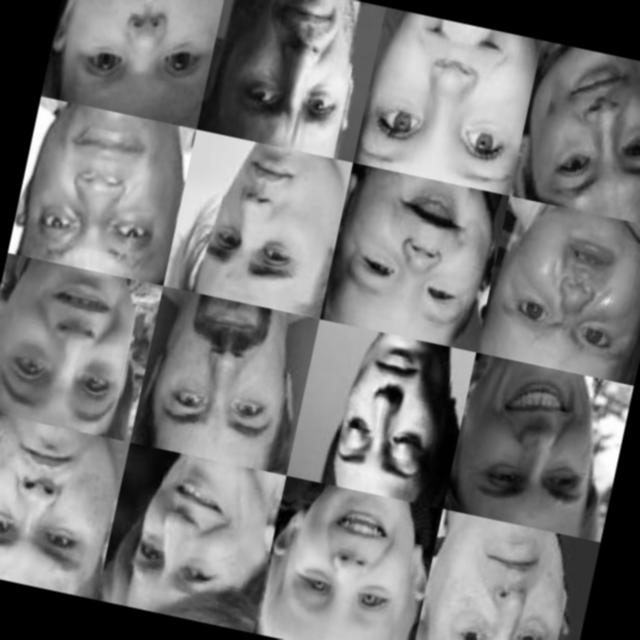happy: (369, 13, 532, 178), (112, 450, 260, 611), (454, 365, 602, 524), (342, 172, 491, 323), (271, 489, 417, 640), (526, 56, 640, 197)
neutral: (146, 295, 302, 462), (11, 108, 172, 262), (212, 0, 359, 139), (423, 526, 577, 640), (66, 0, 224, 105), (0, 418, 99, 579)
sad: (479, 214, 640, 374), (0, 277, 140, 434), (305, 328, 447, 482), (195, 134, 332, 291)
